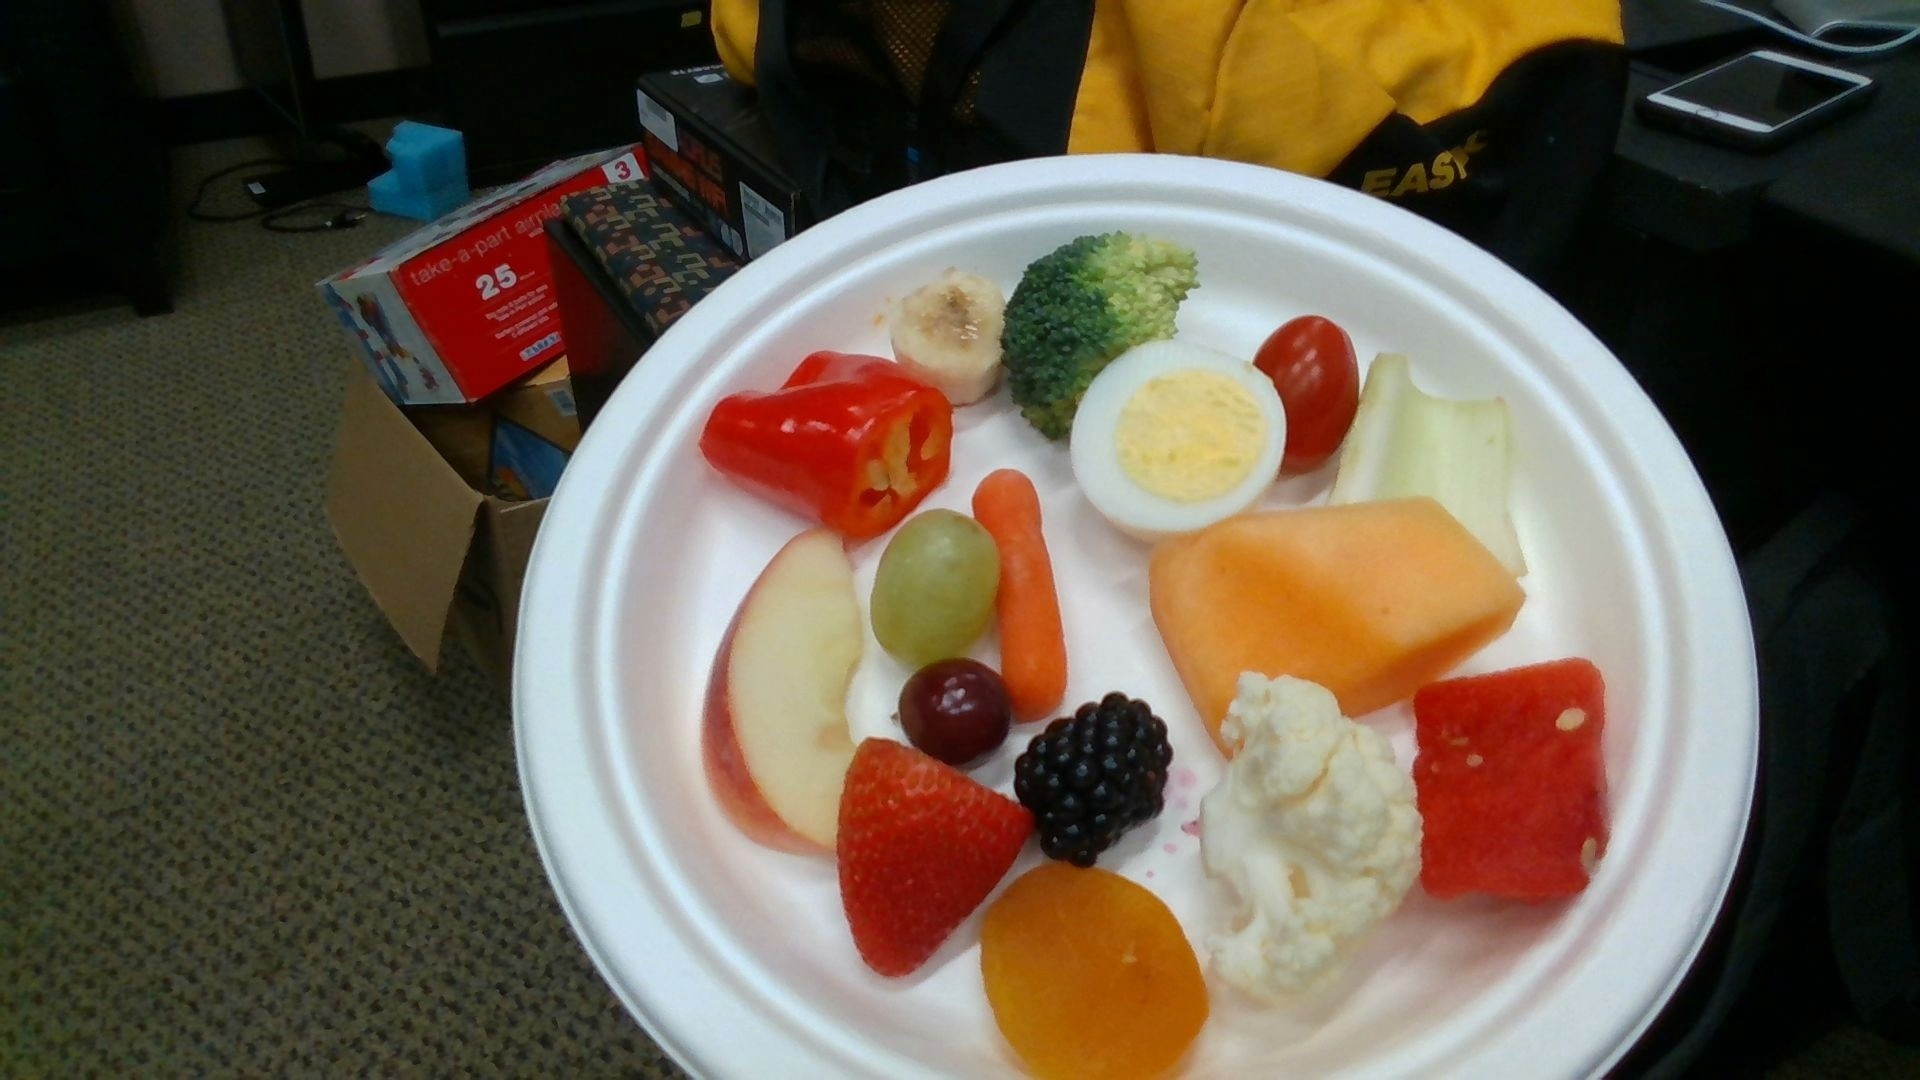apple: (704, 527, 860, 860)
apricot: (982, 865, 1207, 1080)
banana: (891, 268, 1004, 400)
bell_pepper: (702, 353, 952, 543)
blackberry: (1017, 698, 1172, 862)
broccoli: (1004, 235, 1199, 438)
cantalope: (1150, 500, 1522, 753)
carrot: (975, 468, 1069, 721)
cauliflower: (1203, 673, 1422, 1004)
celery: (1335, 353, 1522, 575)
cherry_tomato: (1257, 318, 1357, 468)
egg: (1072, 343, 1282, 535)
grape_green: (872, 510, 1002, 661)
melon: (1418, 661, 1609, 898)
strawberry: (839, 738, 1027, 978)
